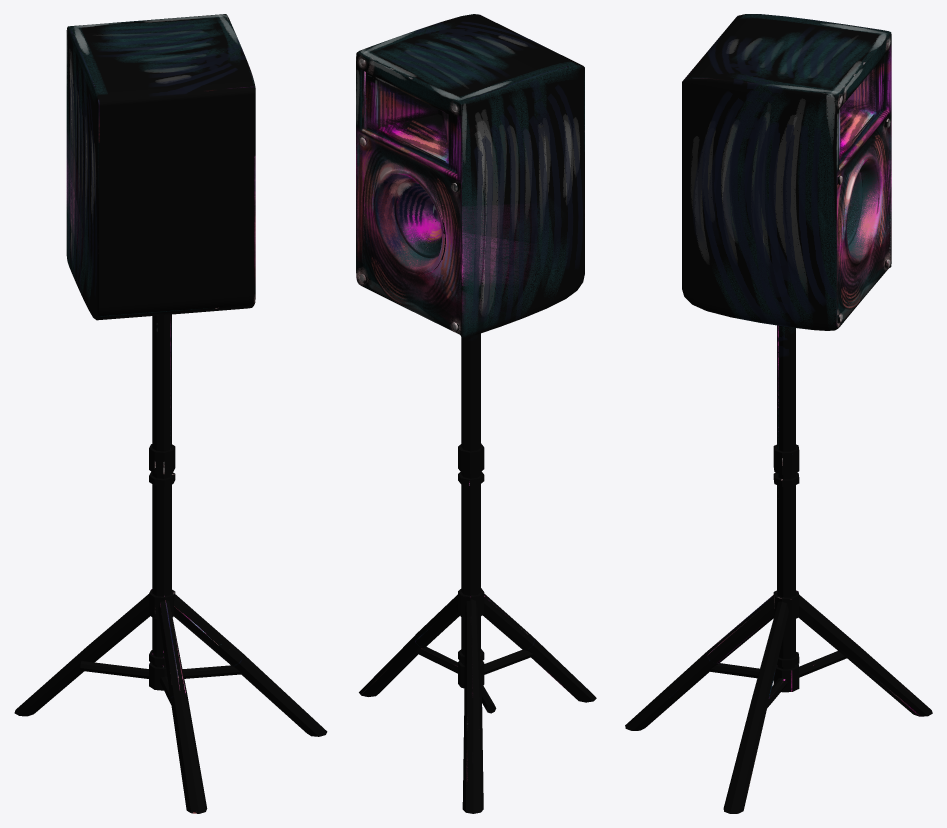
The model's file is speaker.glb.
The picture shows the model from 3 angles, left to right: view 1: azimuth 30°, elevation 25°; view 2: azimuth 150°, elevation 25°; view 3: azimuth 270°, elevation 25°; orthographic projection.
Parts seen in each view (by area): view 1: pCube1.002; view 2: pCube1.002; view 3: pCube1.002.
Part boxes in pixels (x1,y1,x2,y2): pCube1.002: [14, 14, 327, 813]; pCube1.002: [356, 14, 596, 813]; pCube1.002: [625, 14, 932, 813].
Bounding box in the file's own units: 1.26 × 3.68 × 1.48.
1 material, 1 textured.
